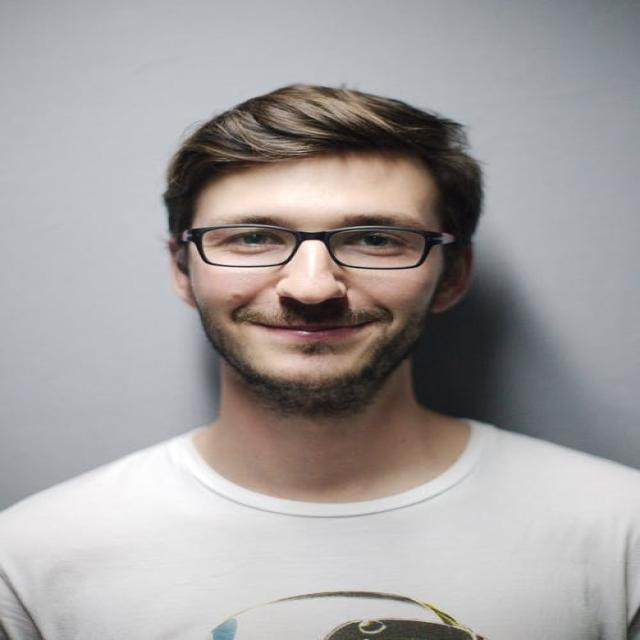human: (5, 77, 639, 640)
